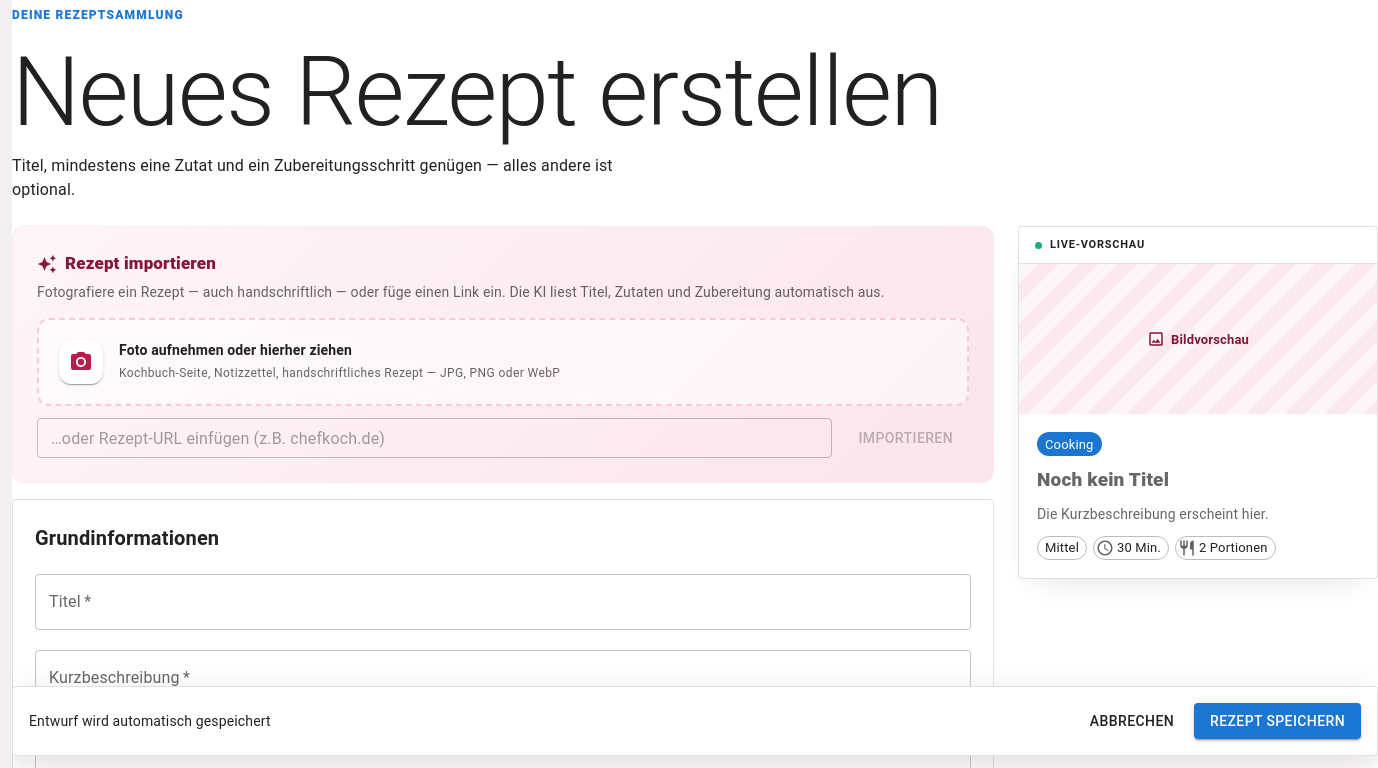
CreateRecipePage import › shows the server error with retry and leaves the form untouched
The width and height of the screenshot is (1378, 768).
Type "Mein eigener Titel" into the field labelled "Titel *" at (503, 602), box x1=35 y1=574 x2=971 y2=630
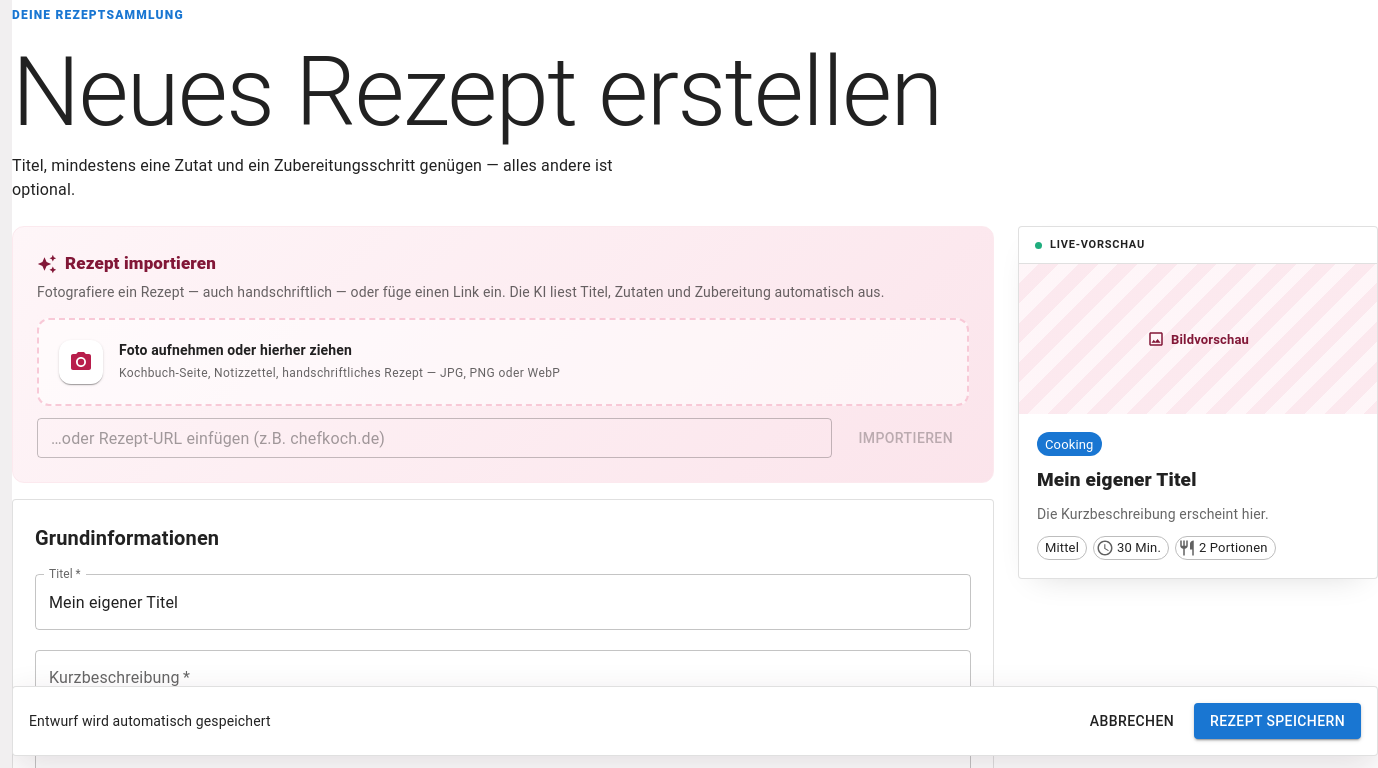
Type "https://example.com/kein-rezept" into the field labelled "Rezept-URL" at (435, 438), box x1=37 y1=418 x2=832 y2=458
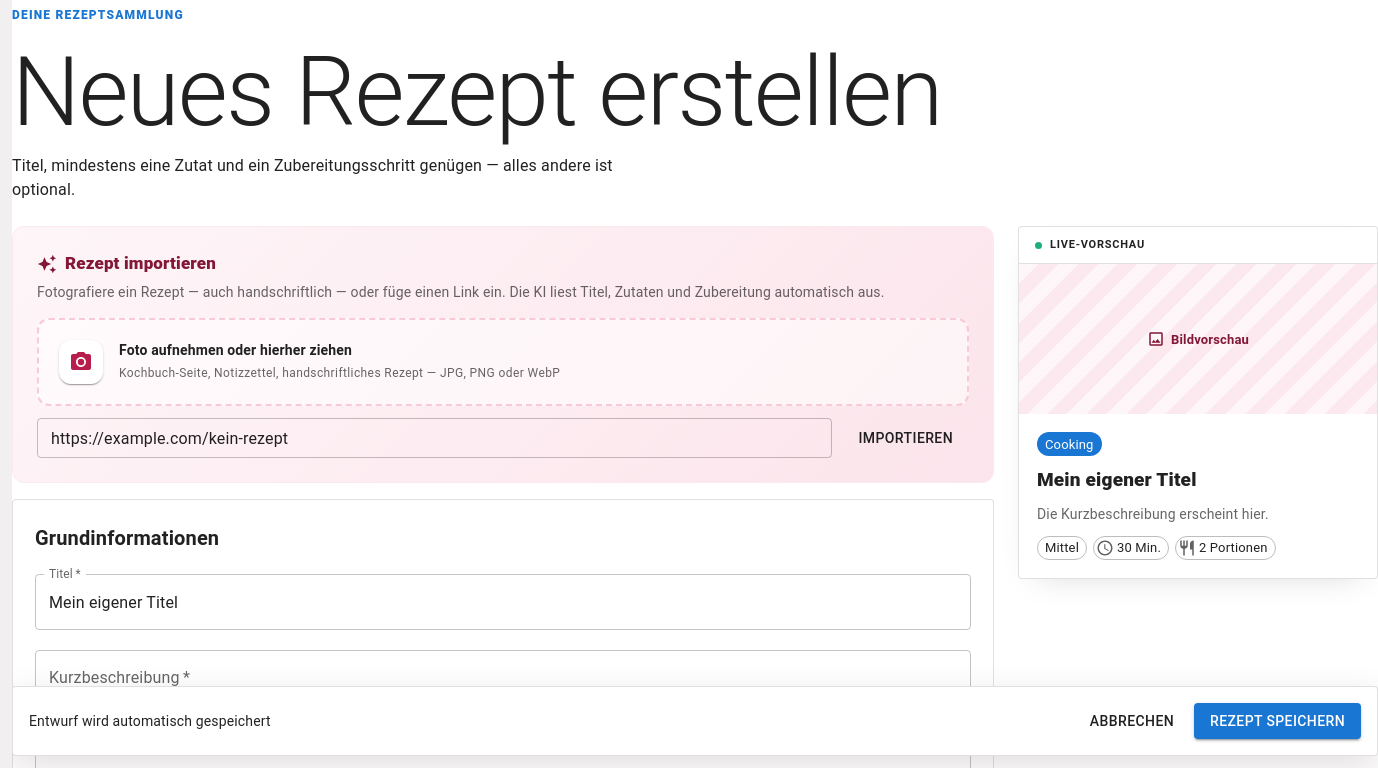
Click the button "Importieren" at (906, 438), box x1=842 y1=418 x2=969 y2=458
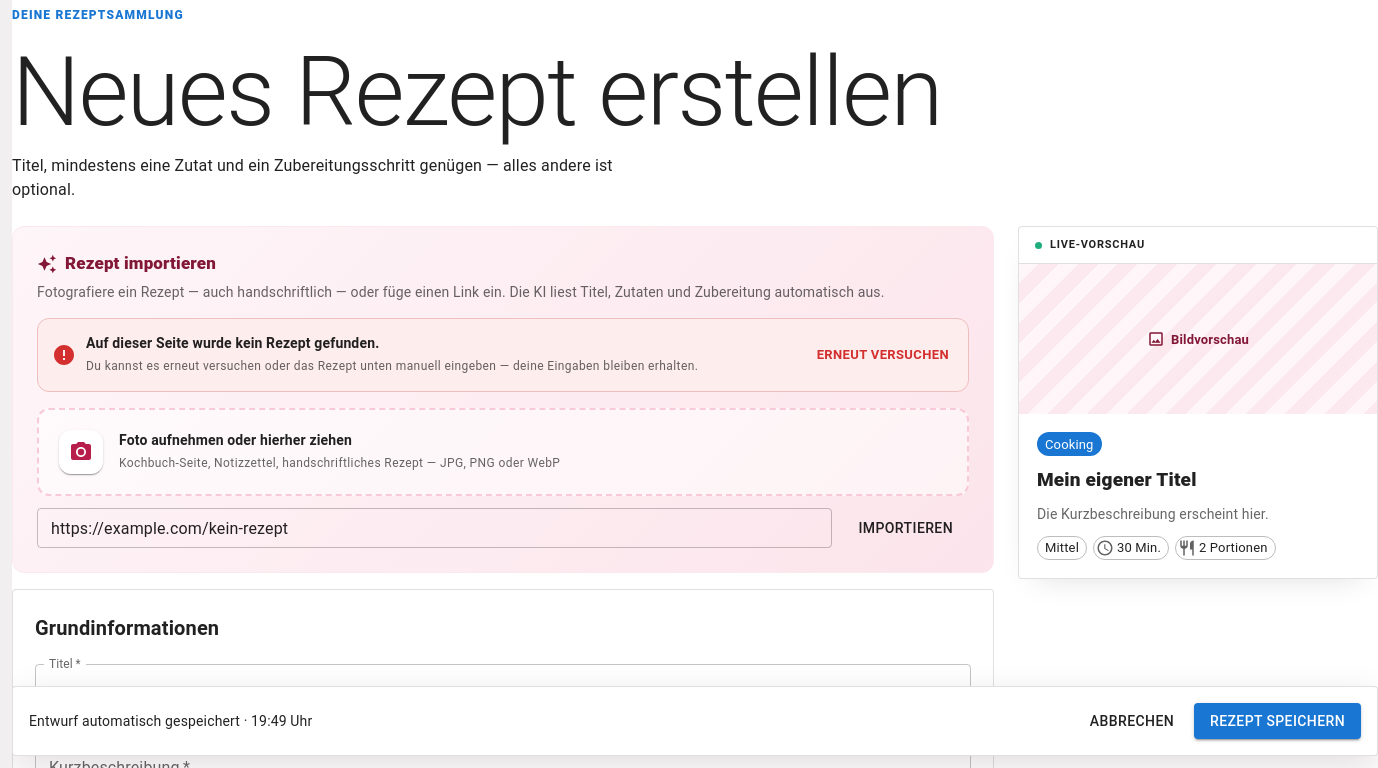
Expected: the text "Auf dieser Seite wurde kein Rezept gefunden." is shown, x1=86 y1=336 x2=379 y2=352
Expected: the button "Erneut versuchen" is shown, x1=812 y1=340 x2=954 y2=371
